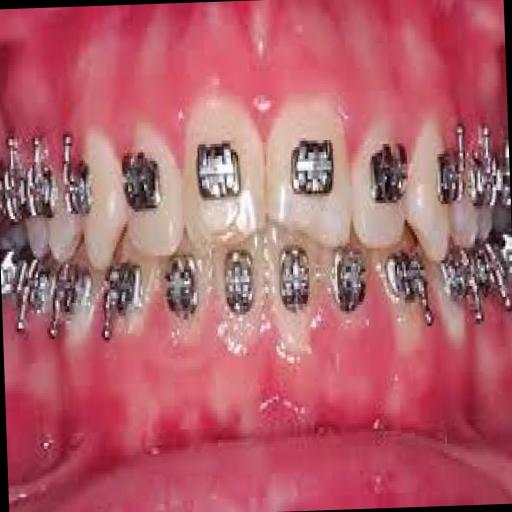correct_brace: (190, 132, 244, 213), (285, 132, 339, 210), (368, 132, 408, 218), (117, 146, 160, 219), (435, 140, 468, 214), (61, 156, 94, 221)
incorrect_brace: (347, 114, 412, 265), (123, 122, 185, 260)
